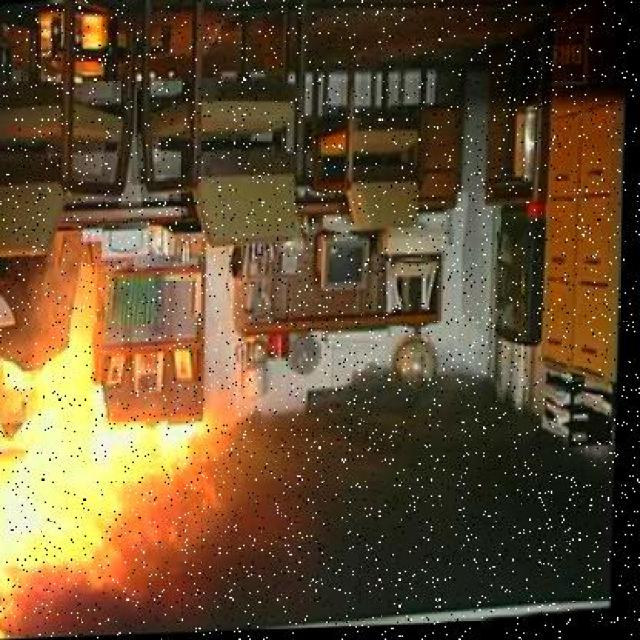fire: (1, 337, 267, 566), (1, 369, 224, 609), (223, 616, 224, 618)
